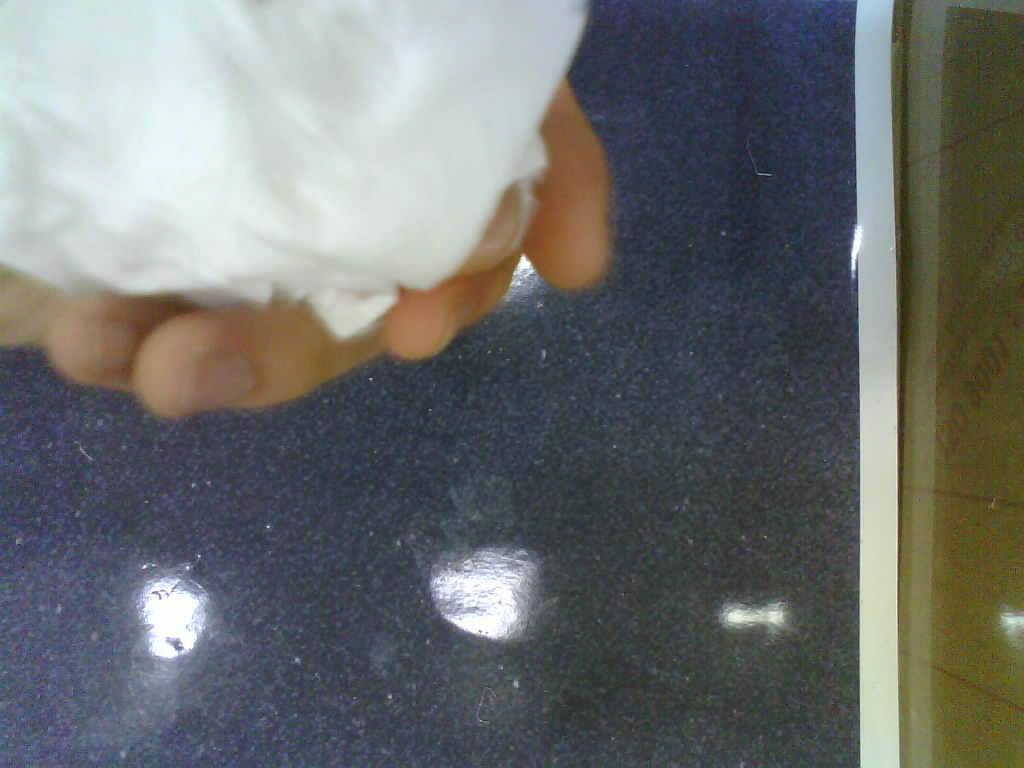paper: (1, 2, 586, 338)
